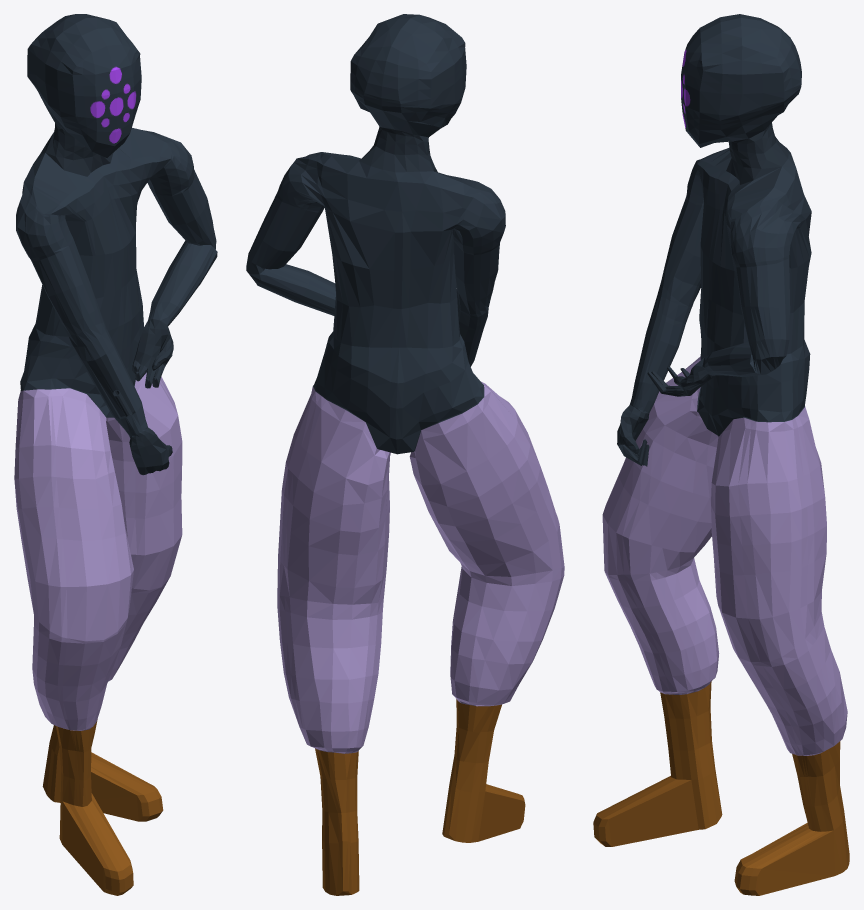
File: Oracle_WF_000004.obj
The picture shows the model from 3 angles, left to right: view 1: azimuth 30°, elevation 25°; view 2: azimuth 150°, elevation 25°; view 3: azimuth 270°, elevation 25°; orthographic projection. The views are drawn at different scales.
Parts seen in each view (by area): view 1: Cube; view 2: Cube; view 3: Cube.
Boxes of the visible parts, x1,y1,x2,y2 form: Cube: (14, 14, 217, 895); Cube: (246, 14, 564, 895); Cube: (593, 14, 849, 895).
Bounding box in the file's own units: 1.18 × 3.89 × 1.07.
